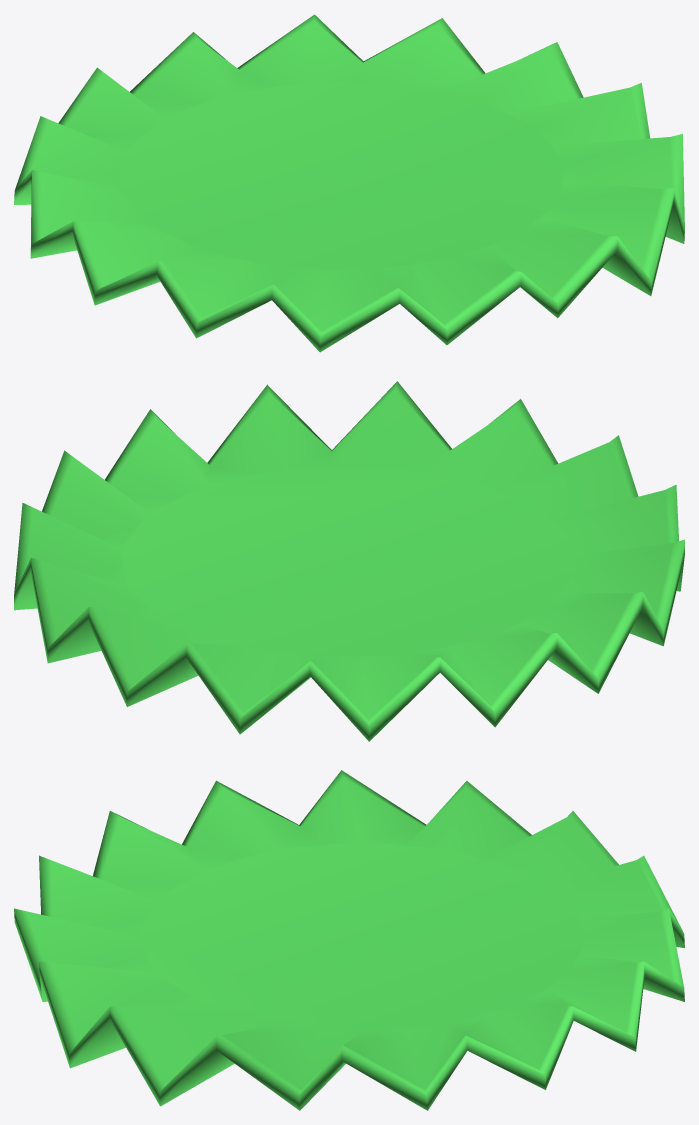
File: Lechuga.glb
3 views of the same model, one above another, from view 1: azimuth 30°, elevation 25°; view 2: azimuth 150°, elevation 25°; view 3: azimuth 270°, elevation 25° (orthographic). The views are drawn at different scales.
Parts seen in each view (by area): view 1: Circle.001; view 2: Circle.001; view 3: Circle.001.
Part boxes in pixels (<box>): Circle.001: <box>14,14,684,352</box>; Circle.001: <box>14,381,684,741</box>; Circle.001: <box>14,770,684,1110</box>.
Size of the model in its own units: 1.76 by 0.2465 by 1.8.
